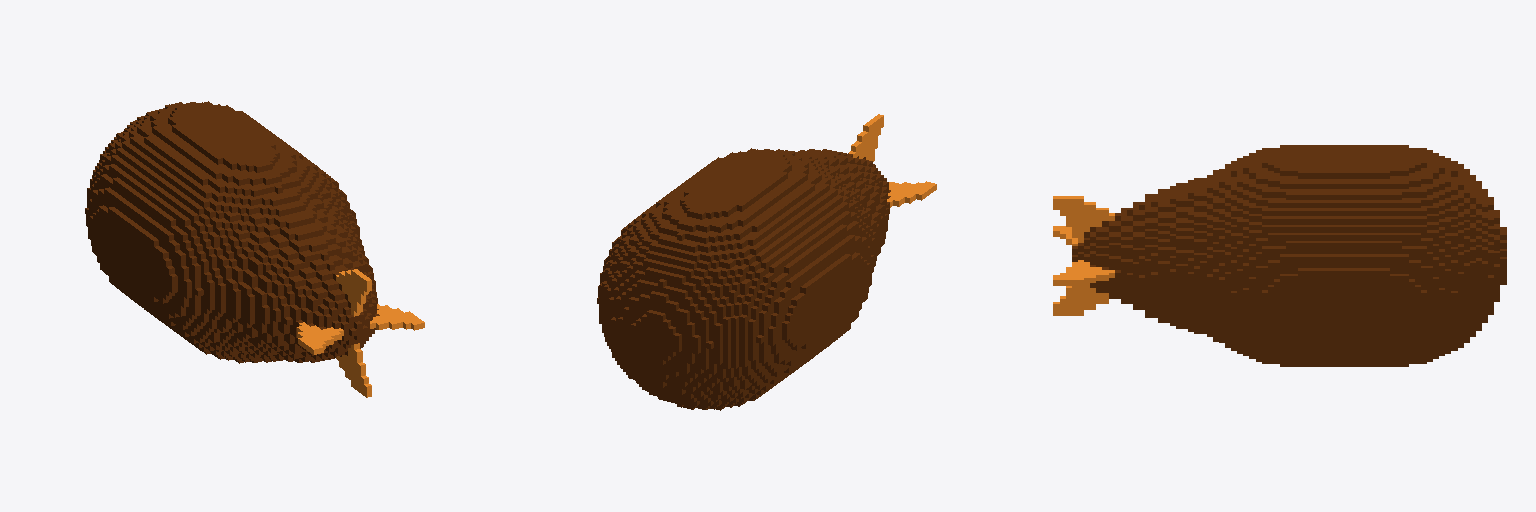
The picture shows the model from 3 angles: view 1: azimuth 30°, elevation 25°; view 2: azimuth 150°, elevation 25°; view 3: azimuth 270°, elevation 25°; orthographic projection.
Bounding box in the file's own units: 35 × 35 × 74.
1 materials, 1 textured.